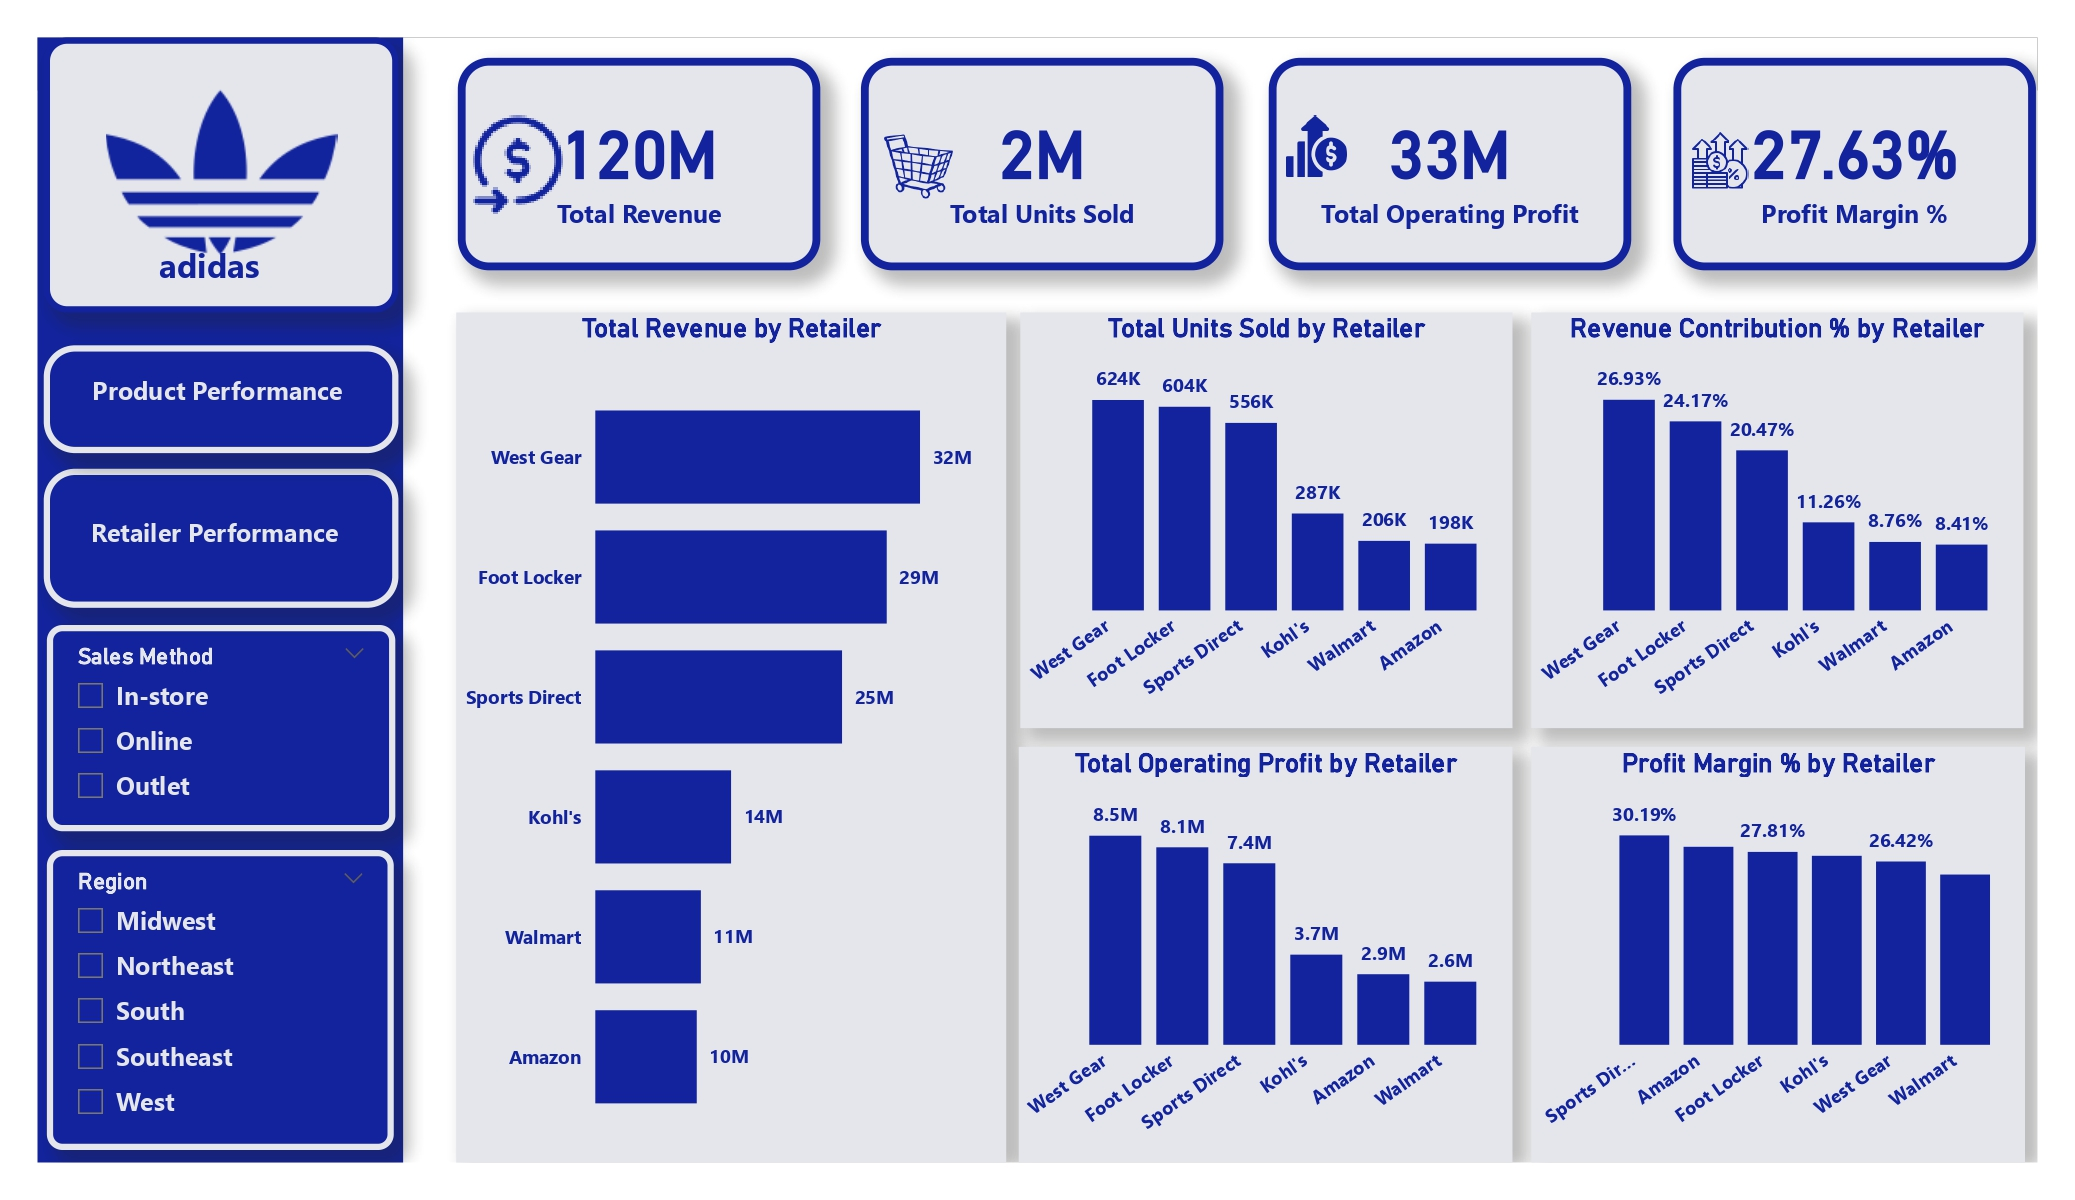

The dashboard page shown, as its layout file describes it:
{"tool":"powerbi","page":{"name":"Retailer Performance","canvas":[1280,720],"ordinal":1},"visuals":[{"type":"textbox","box":[0,0,234.3,720],"z":0},{"type":"image","box":[3.8,0,226.8,175.7],"z":0,"group":"g1"},{"type":"group","id":"g1","title":"Group 1","box":[3.8,0,226.8,175.7],"z":1000},{"type":"card","fields":{"Values":["Adidas Shoe Sales.Profit Margin %"]},"box":[1046.9,13.2,232.4,136.1],"z":1000,"group":"g6"},{"type":"textbox","box":[29.3,126.4,160.3,49.4],"z":1000,"group":"g1"},{"type":"group","id":"g2","title":"Group 2","box":[3.8,275.9,226.8,88.8],"z":2000},{"type":"barChart","title":"Total Revenue by Retailer","fields":{"Category":["Adidas Shoe Sales.Retailer"],"Y":["Sum(Adidas Shoe Sales.Total_Sales)"]},"box":[268,176,352,544],"z":3000},{"type":"columnChart","title":"Total Units Sold by Retailer","fields":{"Y":["Sum(Adidas Shoe Sales.Unit_Sold)"],"Category":["Adidas Shoe Sales.Retailer"]},"box":[629.3,175.7,315,266],"z":4000},{"type":"columnChart","title":"Total Operating Profit by Retailer","fields":{"Y":["Sum(Adidas Shoe Sales.Operating_Profit)"],"Category":["Adidas Shoe Sales.Retailer"]},"box":[628,454,316,266],"z":5000},{"type":"card","fields":{"Values":["Sum(Adidas Shoe Sales.Total_Sales)"]},"box":[268.4,13.2,232.4,136.1],"z":6000,"group":"g3"},{"type":"columnChart","fields":{"Category":["Adidas Shoe Sales.Retailer"],"Y":["Adidas Shoe Sales.Revenue Contribution %"]},"box":[956.2,175.7,315,266],"z":6000},{"type":"card","fields":{"Values":["Sum(Adidas Shoe Sales.Unit_Sold)"]},"box":[527.5,13.2,232.4,136.1],"z":7000,"group":"g4"},{"type":"columnChart","fields":{"Y":["Adidas Shoe Sales.Profit Margin %"],"Category":["Adidas Shoe Sales.Retailer"]},"box":[956,454,316,266],"z":7000},{"type":"textbox","box":[22.7,209.8,189,43.5],"z":8000},{"type":"actionButton","box":[3.8,196.5,226.8,69.9],"z":9000},{"type":"card","fields":{"Values":["Sum(Adidas Shoe Sales.Operating_Profit)"]},"box":[788,13.2,232.4,136.1],"z":10000,"group":"g5"},{"type":"slicer","fields":{"Values":["Adidas Shoe Sales.Sales_Method"]},"box":[5.7,376.1,223,132.3],"z":10000},{"type":"slicer","fields":{"Values":["Adidas Shoe Sales.Region"]},"box":[5.7,519.7,222,192.8],"z":11000},{"type":"group","id":"g3","title":"Group 4","box":[267.7,13.2,233.1,136.1],"z":12000},{"type":"group","id":"g4","title":"Group 5","box":[527.5,13.2,232.4,136.1],"z":13000},{"type":"group","id":"g5","title":"Group 6","box":[788,13.2,232.4,136.1],"z":14000},{"type":"group","id":"g6","title":"Group 7","box":[1046.9,13.2,232.4,136.1],"z":15000},{"type":"textbox","box":[22.5,281,185.9,56.7],"z":15000,"group":"g7"},{"type":"actionButton","box":[3.8,275.9,226.8,88.8],"z":16000,"group":"g7"},{"type":"group","id":"g7","title":"Group 3","box":[3.8,275.9,226.8,88.8],"z":16001,"group":"g2"},{"type":"image","box":[267.7,34,79.4,94.5],"z":16003,"group":"g3"},{"type":"image","box":[535.1,51,58.6,60.5],"z":16004,"group":"g4"},{"type":"image","box":[793.7,39.7,49.1,60.5],"z":16005,"group":"g5"},{"type":"image","box":[1052.6,51,47.2,54.8],"z":16006,"group":"g6"}]}

Visuals, with their boxes on the page's 1280x720 design canvas (x1, y1, x2, y2). These are canvas units, not pixel positions in the 2075x1200 screenshot, which may show the page scaled, cropped or inside an application window:
textbox: {"left": 0, "top": 0, "right": 234, "bottom": 720}
image: {"left": 4, "top": 0, "right": 231, "bottom": 176}
"Group 1" group: {"left": 4, "top": 0, "right": 231, "bottom": 176}
card - Adidas Shoe Sales.Profit Margin %: {"left": 1047, "top": 13, "right": 1279, "bottom": 149}
textbox: {"left": 29, "top": 126, "right": 190, "bottom": 176}
"Group 2" group: {"left": 4, "top": 276, "right": 231, "bottom": 365}
"Total Revenue by Retailer" barChart: {"left": 268, "top": 176, "right": 620, "bottom": 720}
"Total Units Sold by Retailer" columnChart: {"left": 629, "top": 176, "right": 944, "bottom": 442}
"Total Operating Profit by Retailer" columnChart: {"left": 628, "top": 454, "right": 944, "bottom": 720}
card - Sum(Adidas Shoe Sales.Total_Sales): {"left": 268, "top": 13, "right": 501, "bottom": 149}
columnChart - Adidas Shoe Sales.Retailer x Adidas Shoe Sales.Revenue Contribution %: {"left": 956, "top": 176, "right": 1271, "bottom": 442}
card - Sum(Adidas Shoe Sales.Unit_Sold): {"left": 528, "top": 13, "right": 760, "bottom": 149}
columnChart - Adidas Shoe Sales.Profit Margin % x Adidas Shoe Sales.Retailer: {"left": 956, "top": 454, "right": 1272, "bottom": 720}
textbox: {"left": 23, "top": 210, "right": 212, "bottom": 253}
actionButton: {"left": 4, "top": 196, "right": 231, "bottom": 266}
card - Sum(Adidas Shoe Sales.Operating_Profit): {"left": 788, "top": 13, "right": 1020, "bottom": 149}
slicer - Adidas Shoe Sales.Sales_Method: {"left": 6, "top": 376, "right": 229, "bottom": 508}
slicer - Adidas Shoe Sales.Region: {"left": 6, "top": 520, "right": 228, "bottom": 712}
"Group 4" group: {"left": 268, "top": 13, "right": 501, "bottom": 149}
"Group 5" group: {"left": 528, "top": 13, "right": 760, "bottom": 149}
"Group 6" group: {"left": 788, "top": 13, "right": 1020, "bottom": 149}
"Group 7" group: {"left": 1047, "top": 13, "right": 1279, "bottom": 149}
textbox: {"left": 22, "top": 281, "right": 208, "bottom": 338}
actionButton: {"left": 4, "top": 276, "right": 231, "bottom": 365}
"Group 3" group: {"left": 4, "top": 276, "right": 231, "bottom": 365}
image: {"left": 268, "top": 34, "right": 347, "bottom": 128}
image: {"left": 535, "top": 51, "right": 594, "bottom": 112}
image: {"left": 794, "top": 40, "right": 843, "bottom": 100}
image: {"left": 1053, "top": 51, "right": 1100, "bottom": 106}
